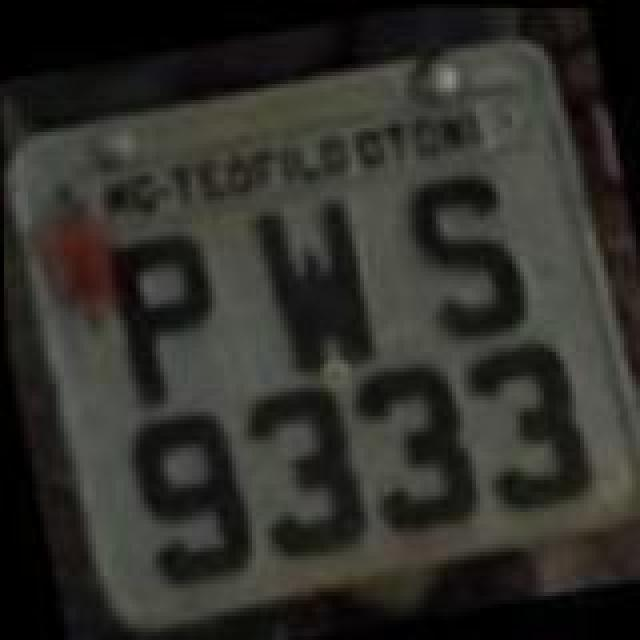3: (450, 324, 606, 520), (332, 344, 488, 540), (222, 366, 374, 566)
9: (114, 392, 262, 588)
P: (90, 222, 238, 418)
S: (398, 162, 538, 342)
W: (242, 184, 386, 384)
